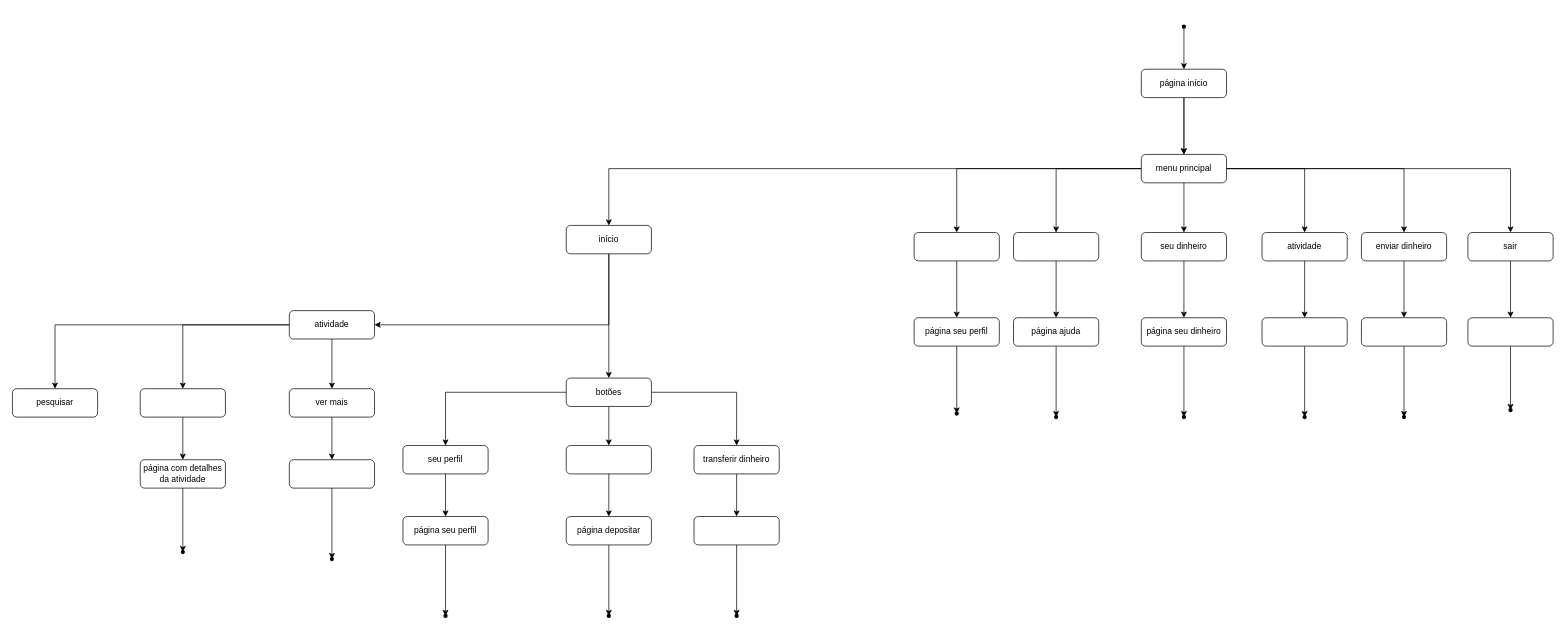
This 1566x643 diagram has some shape labels left out. Each missing label, with the centre of its shape:
ajuda: (1056,246)
depositar dinheiro: (608,459)
página atividade: (1304,331)
página enviar dinheiro: (1404,331)
página home page: (1510,331)
página trasferir: (736,530)
selecionar/ clicar: (182,402)
sue perfil: (956,246)
vai para página atividade: (332,473)
